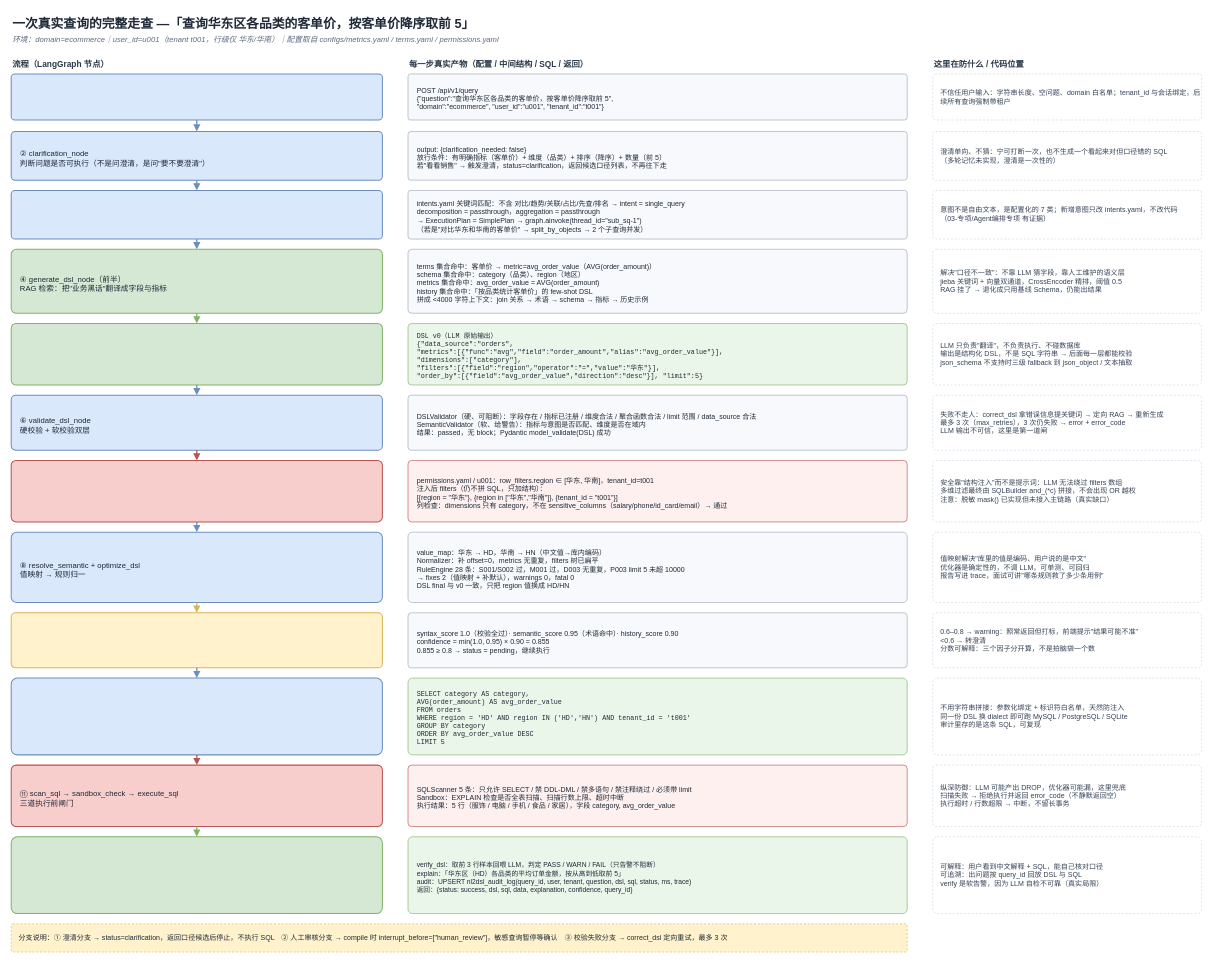
This 1213x963 diagram has some shape labels left out. The shapes that lost their labels are listed below. From the top down, each one's centre as x and y in pixels, then its label:
At point 196,96: "① 提问 用户输入一句中文，不写 SQL、不选表".
At point 196,214: "③ plan_node + AgentController 分流 意图识别 → 决定走简单单查询还是拆子查询".
At point 196,354: "⑤ generate_dsl_node（后半） LLM 输出 JSON DSL".
At point 196,491: "⑦ permission_check 子图 inject_row_permission → check_col_permission".
At point 196,640: "⑨ confidence_gate 决定继续、告警还是回头澄清".
At point 196,716: "⑩ build_sql SQLAlchemy Core 构建 + sqlglot 方言转译".
At point 196,875: "⑫ verify_dsl → explain → 审计 → 返回 自检 + 人话解释 + 留痕".
